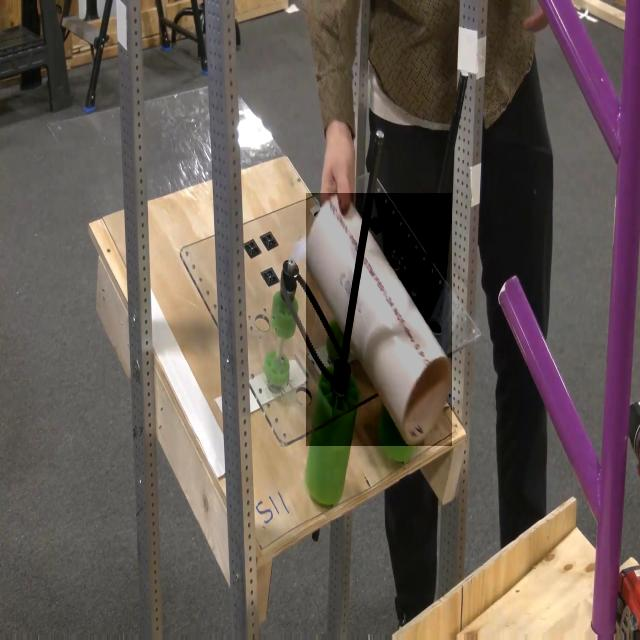Coral: (306, 193, 452, 446)
